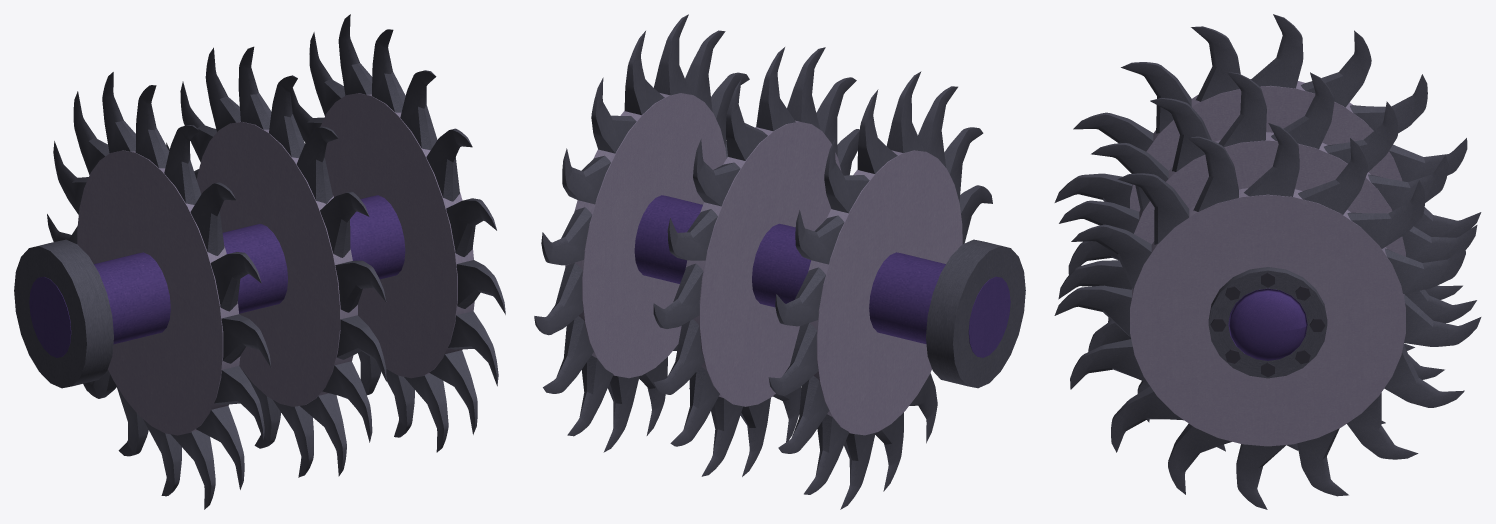
File: Buzzsaw04_Textured.FBX
3 renders of one model, left to right at view 1: azimuth 30°, elevation 25°; view 2: azimuth 150°, elevation 25°; view 3: azimuth 270°, elevation 25°, orthographic. The views are drawn at different scales.
Visible parts, largest first — view 1: Centre Blade005, Centre Blade004, Centre Blade, Support, Tube002, SawTooth165, SawTooth197, SawTooth181, SawTooth241, SawTooth164, SawTooth212, SawTooth226 (+31 smaller); view 2: Centre Blade005, Centre Blade, Centre Blade004, Support, Tube002, SawTooth231, SawTooth202, SawTooth217, SawTooth216, SawTooth230, SawTooth203, SawTooth201 (+32 smaller); view 3: Centre Blade, Centre Blade004, Centre Blade005, Tube001, Sphere001, SawTooth199, SawTooth200, SawTooth164, SawTooth198, SawTooth197, SawTooth201, SawTooth212 (+30 smaller).
Part boxes in pixels (box(x1,y1,x2,y2)): Centre Blade005: box(77, 150, 240, 435); Centre Blade004: box(197, 121, 357, 406); Centre Blade: box(320, 93, 474, 378); Support: box(29, 195, 405, 357); Tube002: box(14, 239, 113, 388); SawTooth165: box(296, 126, 338, 203); SawTooth197: box(400, 70, 437, 150); SawTooth181: box(164, 125, 201, 204); SawTooth241: box(190, 182, 236, 255); SawTooth164: box(426, 128, 472, 201); SawTooth212: box(269, 75, 304, 158); SawTooth226: box(320, 191, 369, 257); Centre Blade005: box(799, 150, 962, 435); Centre Blade: box(565, 93, 726, 378); Centre Blade004: box(685, 120, 841, 406); Support: box(634, 195, 1010, 357); Tube002: box(926, 239, 1025, 388); SawTooth231: box(768, 323, 818, 395); SawTooth202: box(534, 263, 583, 335); SawTooth217: box(653, 319, 704, 394); SawTooth216: box(653, 263, 703, 328); SawTooth230: box(775, 267, 825, 326); SawTooth203: box(543, 316, 593, 393); SawTooth201: box(541, 207, 592, 265); Centre Blade: box(1130, 188, 1405, 446); Centre Blade004: box(1132, 132, 1405, 288); Centre Blade005: box(1130, 79, 1402, 211); Tube001: box(1208, 267, 1327, 378); Sphere001: box(1228, 289, 1307, 360); SawTooth199: box(1298, 138, 1367, 214); SawTooth200: box(1347, 180, 1424, 248); SawTooth164: box(1117, 173, 1189, 244); SawTooth198: box(1244, 123, 1299, 196); SawTooth197: box(1187, 136, 1238, 211); SawTooth201: box(1385, 243, 1465, 293); SawTooth212: box(1218, 72, 1266, 147).
Bounding box in the file's own units: 164 × 170 × 170.
4 materials, 4 textured.
